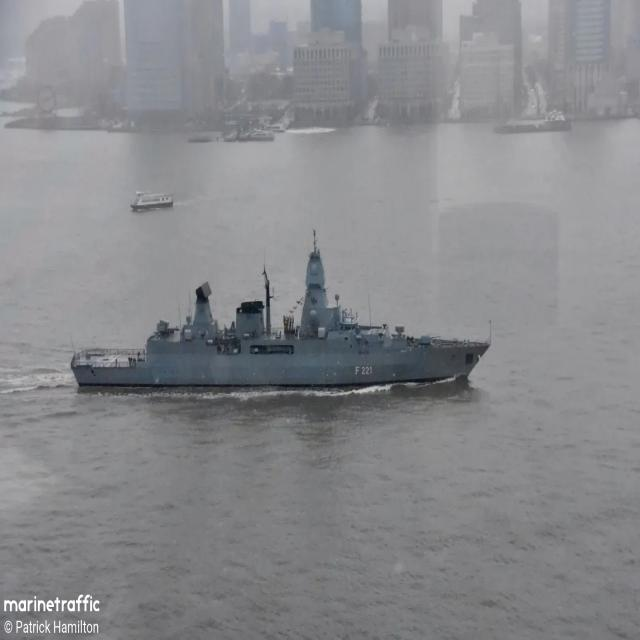Military: (71, 231, 490, 387)
Passenger: (131, 191, 173, 212)
